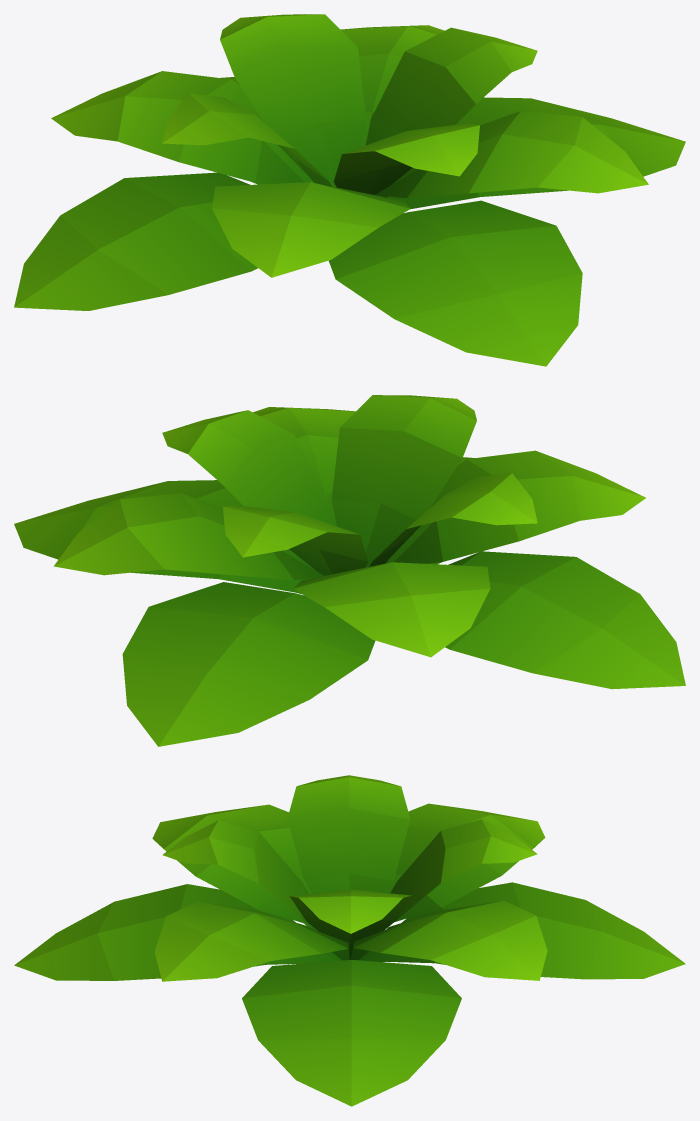
File: grass_8.fbx
3 views of the same model, one above another, from view 1: azimuth 30°, elevation 25°; view 2: azimuth 150°, elevation 25°; view 3: azimuth 270°, elevation 25° (orthographic). The views are drawn at different scales.
Visible parts, largest first — view 1: grass_8; view 2: grass_8; view 3: grass_8.
Boxes of the visible parts, x1=… form: grass_8: x1=14, y1=14, x2=685, y2=366; grass_8: x1=14, y1=395, x2=685, y2=746; grass_8: x1=14, y1=775, x2=685, y2=1106.
Bounding box in the file's own units: 0.7343 × 0.1567 × 0.7343.
